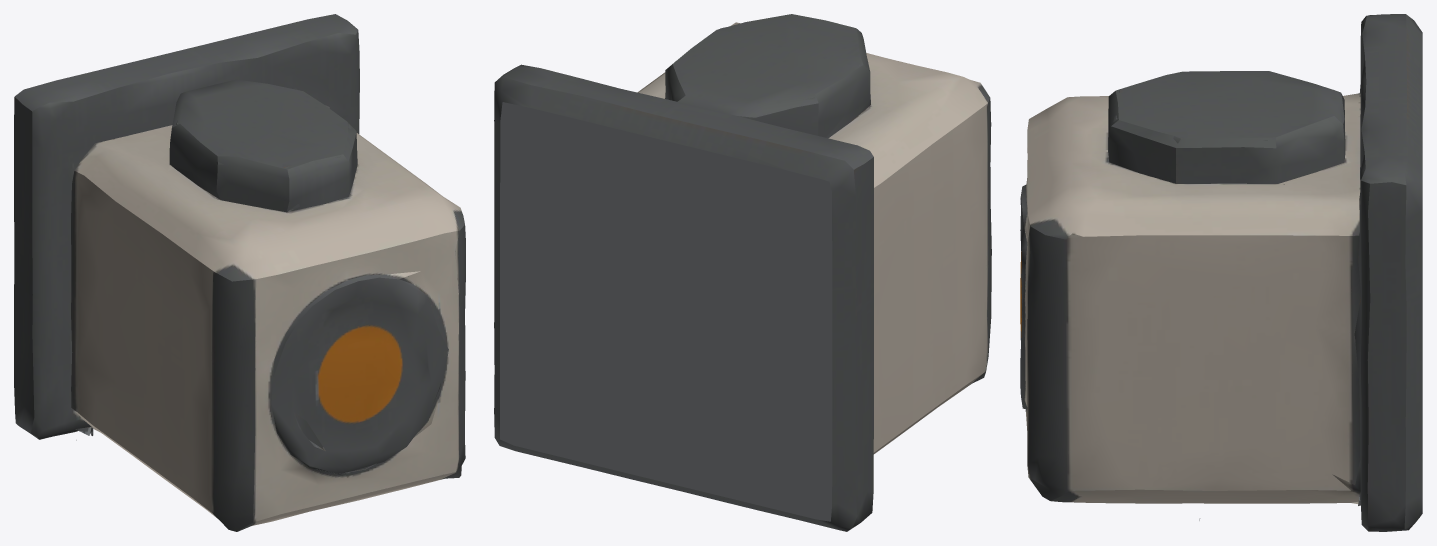
File: research_lab_mk1.glb
3 views of the same model, side by side, from view 1: azimuth 30°, elevation 25°; view 2: azimuth 150°, elevation 25°; view 3: azimuth 270°, elevation 25° (orthographic). The views are drawn at different scales.
Visible parts, largest first — view 1: part; view 2: part; view 3: part.
Boxes of the visible parts, x1,y1,x2,y2 form: part: [14, 14, 465, 531]; part: [494, 14, 991, 531]; part: [1020, 14, 1422, 531].
Bounding box in the file's own units: 2 × 2 × 2.
2 materials, 1 textured.
